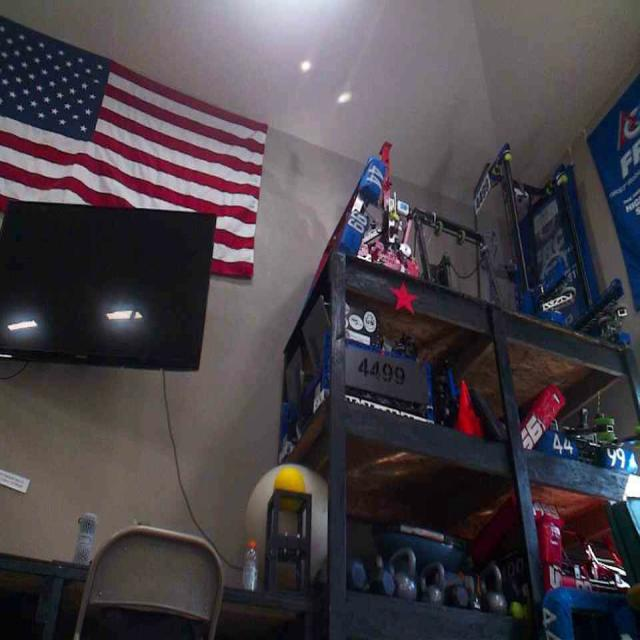star_red: (388, 280, 416, 316)
